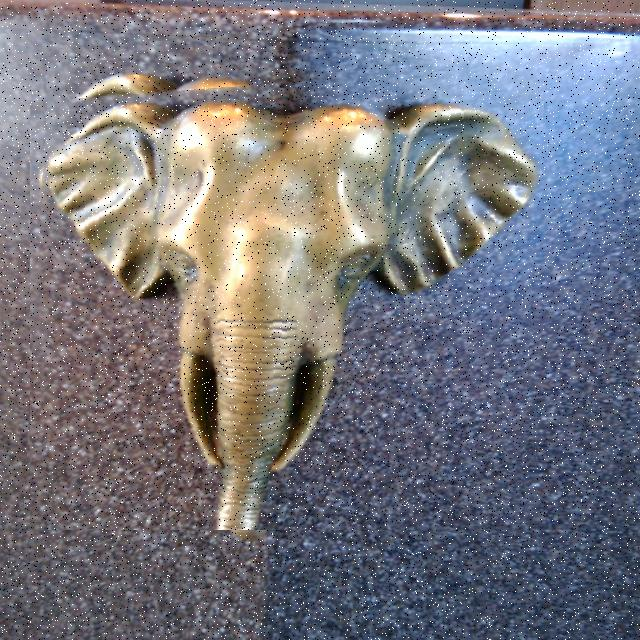elephant: (30, 64, 539, 530)
